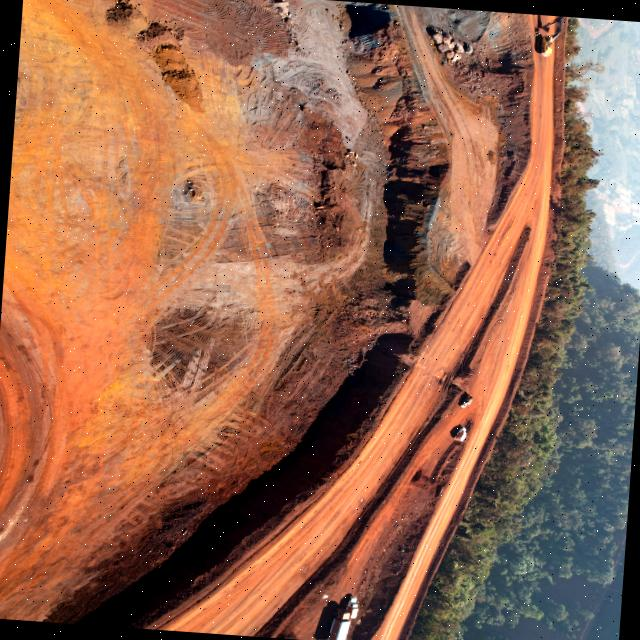Excavator: (532, 16, 561, 56)
car: (452, 426, 466, 441), (459, 394, 472, 407)
person: (532, 32, 538, 36), (532, 31, 538, 34)
